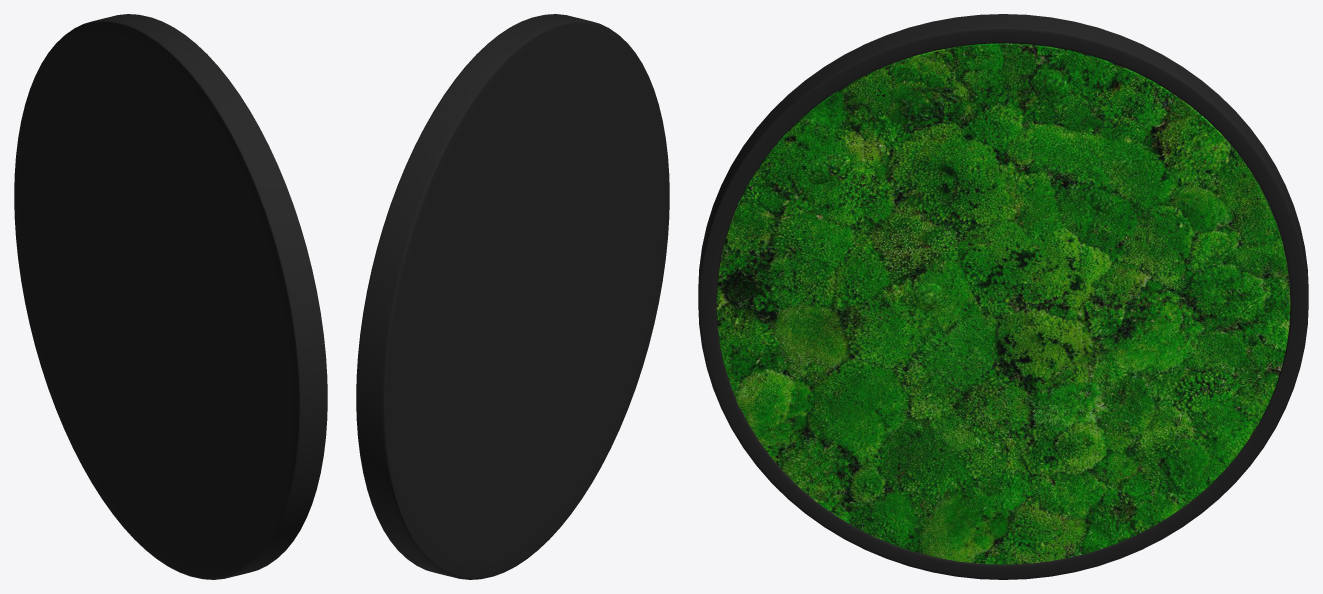
Rendered from Moosbild_Mixmoos_rund_800mm_black_25yarıcap.fbx.
3 renders of one model, left to right at view 1: azimuth 30°, elevation 25°; view 2: azimuth 150°, elevation 25°; view 3: azimuth 270°, elevation 25°, orthographic. The views are drawn at different scales.
Parts seen in each view (by area): view 1: edge1; view 2: edge1; view 3: moss_low5, edge1, moss17.
Part boxes in pixels (x1,y1,x2,y2): edge1: (14,14,327,579); edge1: (356,14,669,579); moss_low5: (716,44,1290,564); edge1: (698,14,1308,579); moss17: (716,43,1290,409).
Bounding box in the file's own units: 3.28 × 50 × 50.
Materials: 2 (1 with a texture image).
